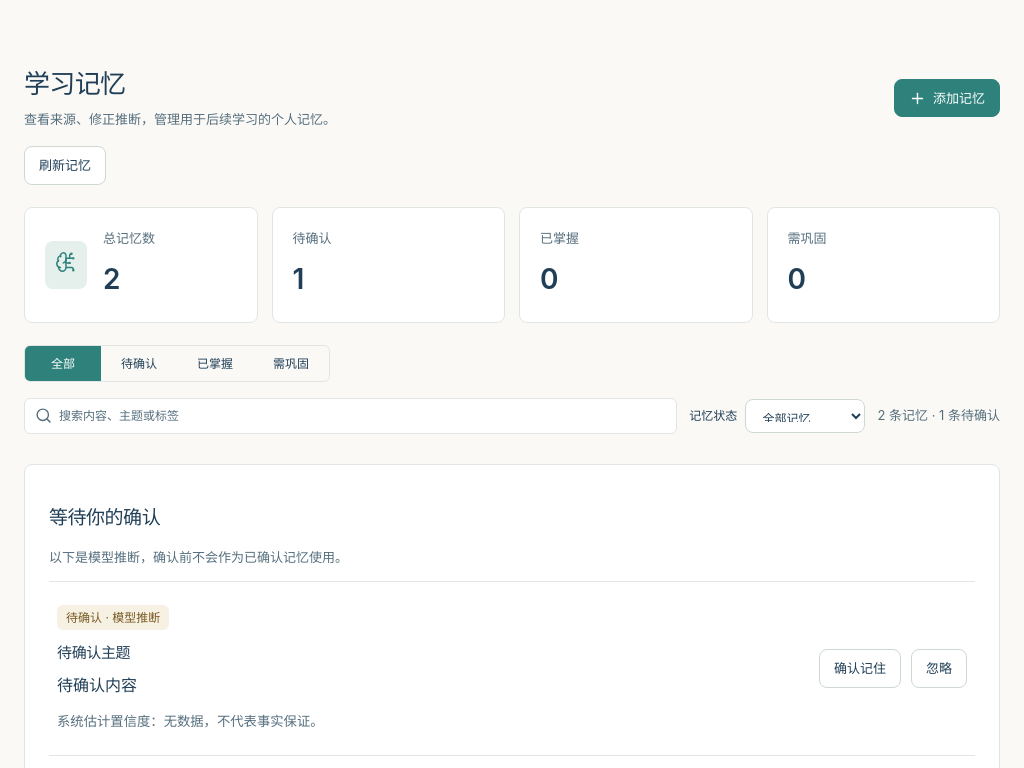
Test: successful confirmation remains visible when refresh fails and the consumed candidate does not reappear
The image size is (1024, 768).
Click the button "确认记住". click: (860, 668)
box: [819,649,901,688]
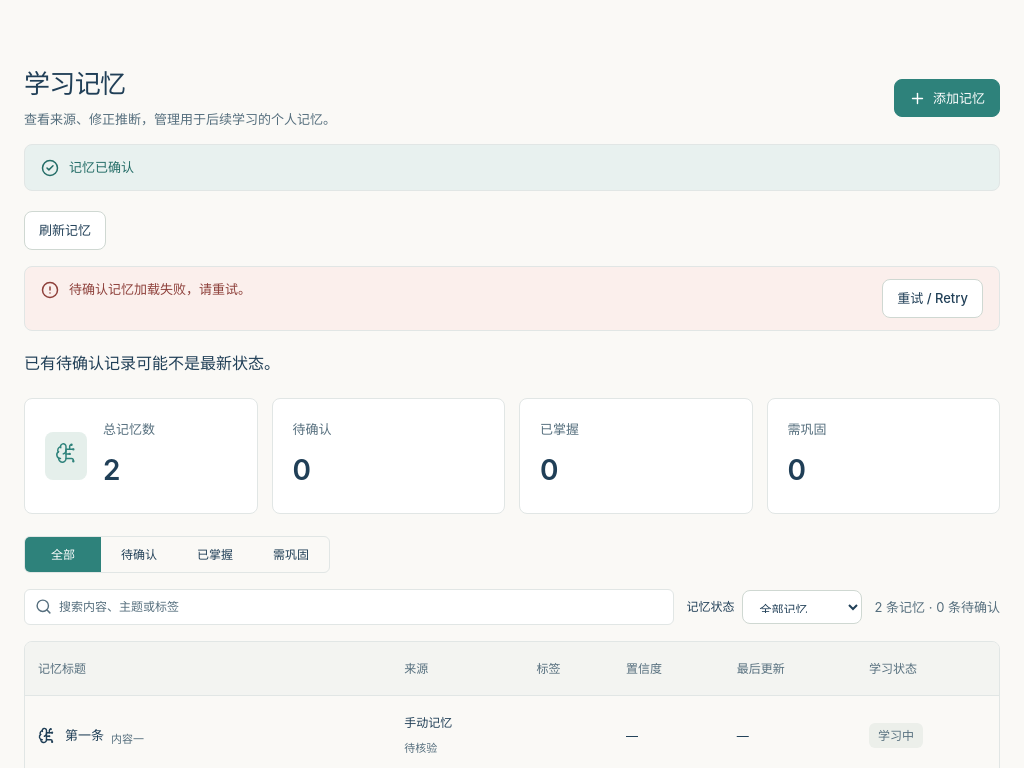
Expected: the text "待确认记忆加载失败，请重试。" is shown, [69,281,251,297]
Expected: the text "记忆已确认" is shown, [69,159,134,175]
Expected: the button "确认记住" is gone
